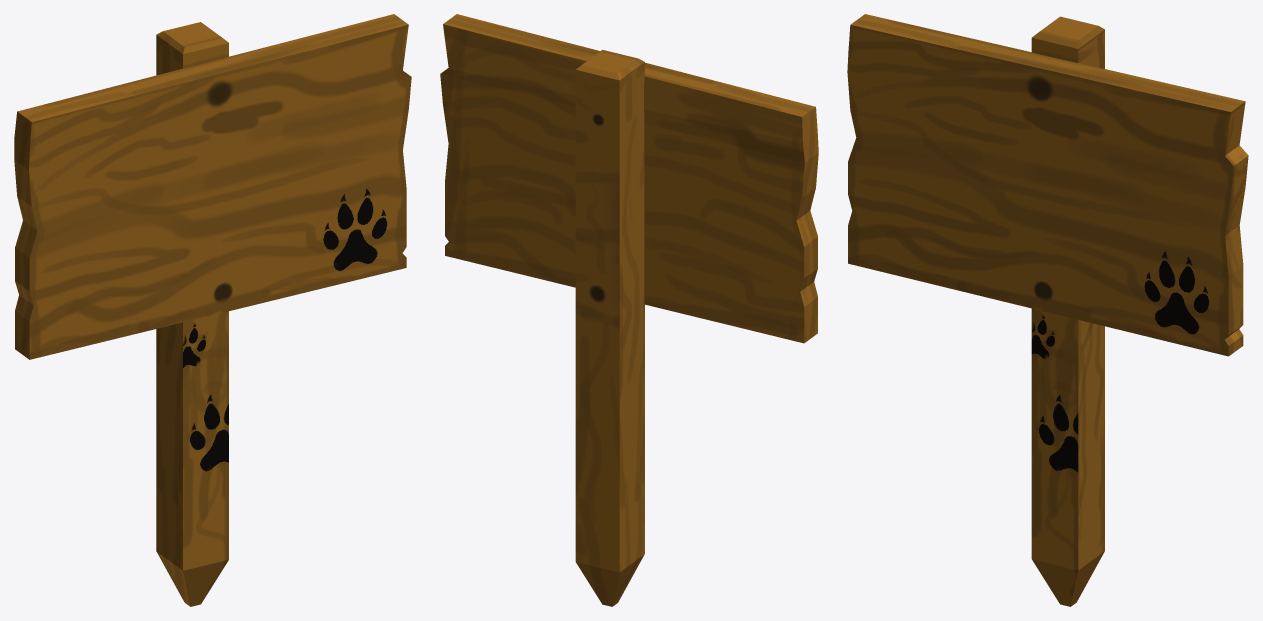
File: catsign.fbx
3 renders of one model, left to right at view 1: azimuth 30°, elevation 25°; view 2: azimuth 150°, elevation 25°; view 3: azimuth 330°, elevation 25°, orthographic. The views are drawn at different scales.
Parts seen in each view (by area): view 1: Cube; view 2: Cube; view 3: Cube.
Boxes of the visible parts, x1,y1,x2,y2 form: Cube: (14,14,411,606); Cube: (440,14,818,606); Cube: (847,14,1248,606).
Size of the model in its own units: 80.92 by 115 by 14.95.
